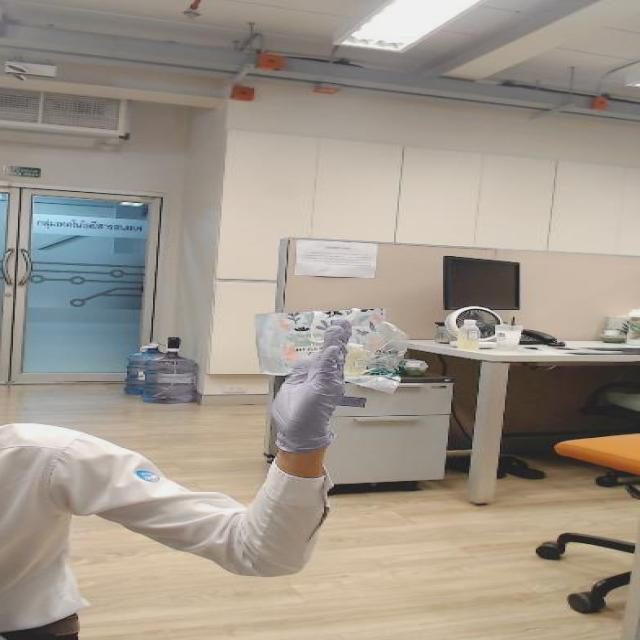glove: (215, 315, 394, 437)
